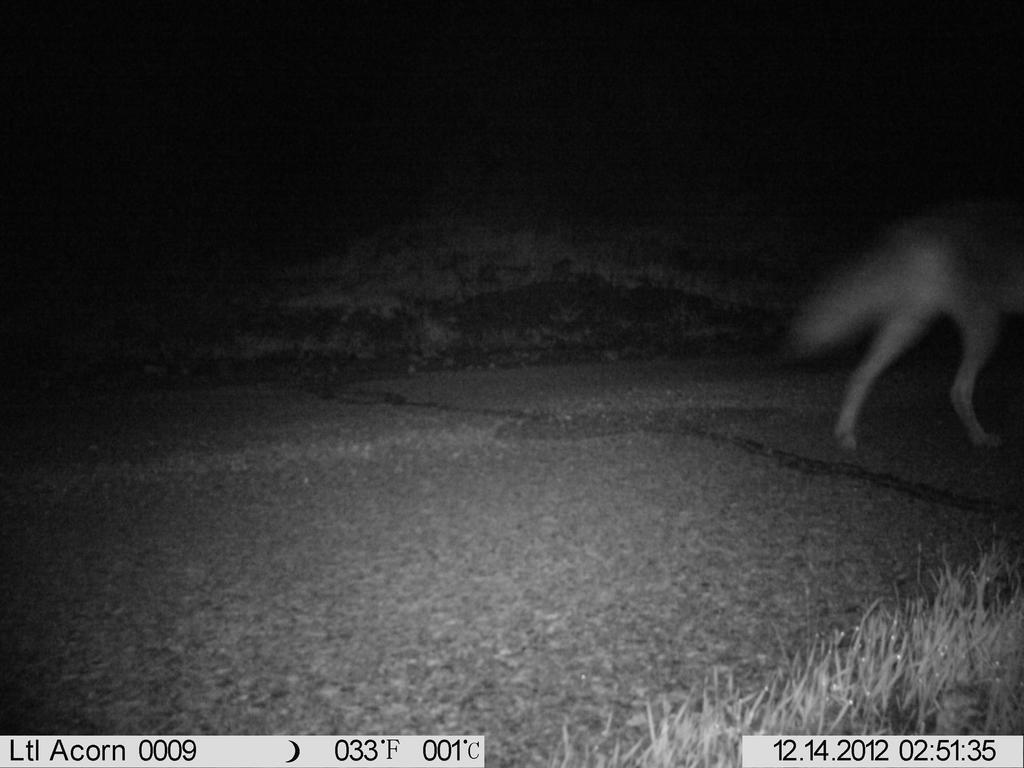coyote: (801, 225, 996, 489)
